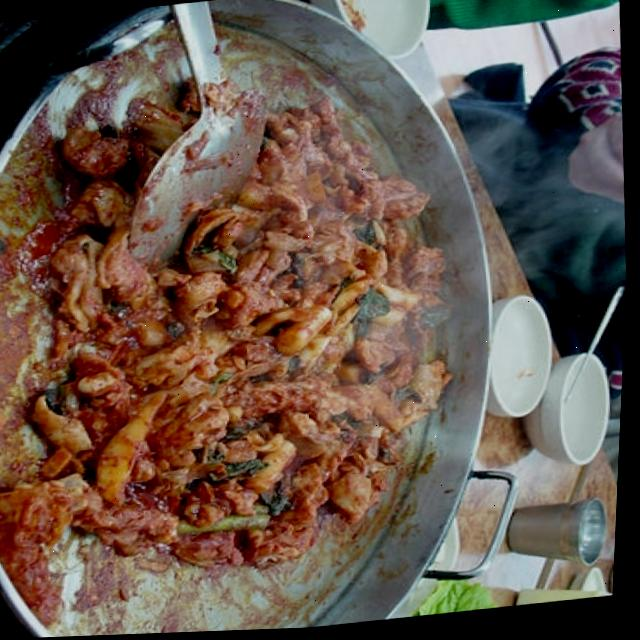鸡肉料理 含炸鸡: (0, 0, 523, 640)
